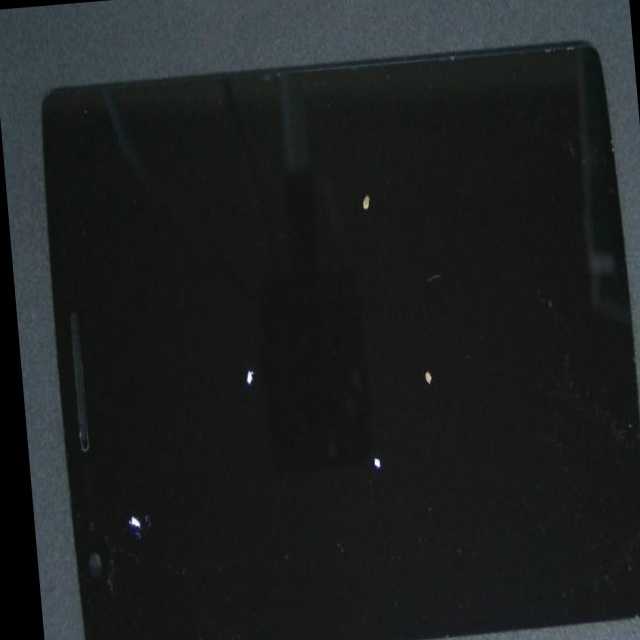stain: (172, 160, 640, 635), (145, 215, 563, 640), (92, 155, 376, 620), (135, 89, 538, 358), (19, 281, 187, 640)
